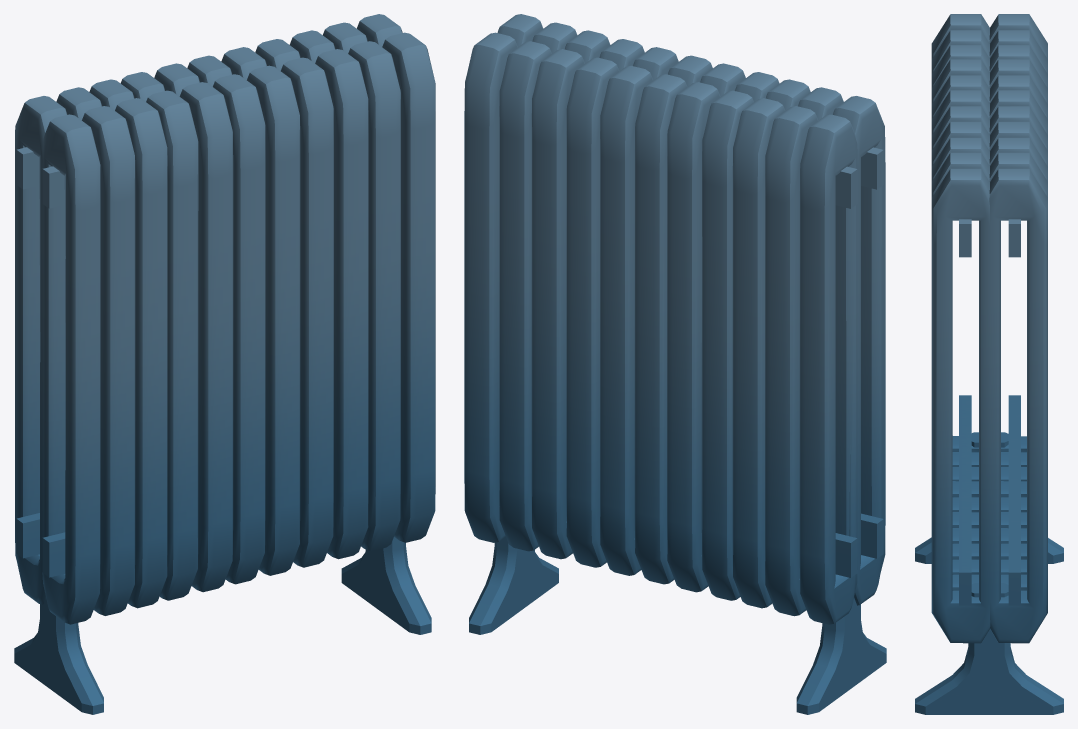
File: SM_Radiator_01.fbx
3 renders of one model, left to right at view 1: azimuth 30°, elevation 25°; view 2: azimuth 150°, elevation 25°; view 3: azimuth 270°, elevation 25°, orthographic. The views are drawn at different scales.
Visible parts, largest first — view 1: SM_Radiator_01; view 2: SM_Radiator_01; view 3: SM_Radiator_01.
Part boxes in pixels (box(x1,y1,x2,y2)): SM_Radiator_01: box(14, 14, 435, 714); SM_Radiator_01: box(464, 14, 886, 714); SM_Radiator_01: box(915, 14, 1063, 714).
Bounding box in the file's own units: 105 × 149 × 37.13.
